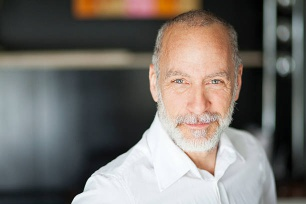male: (153, 31, 237, 154)
